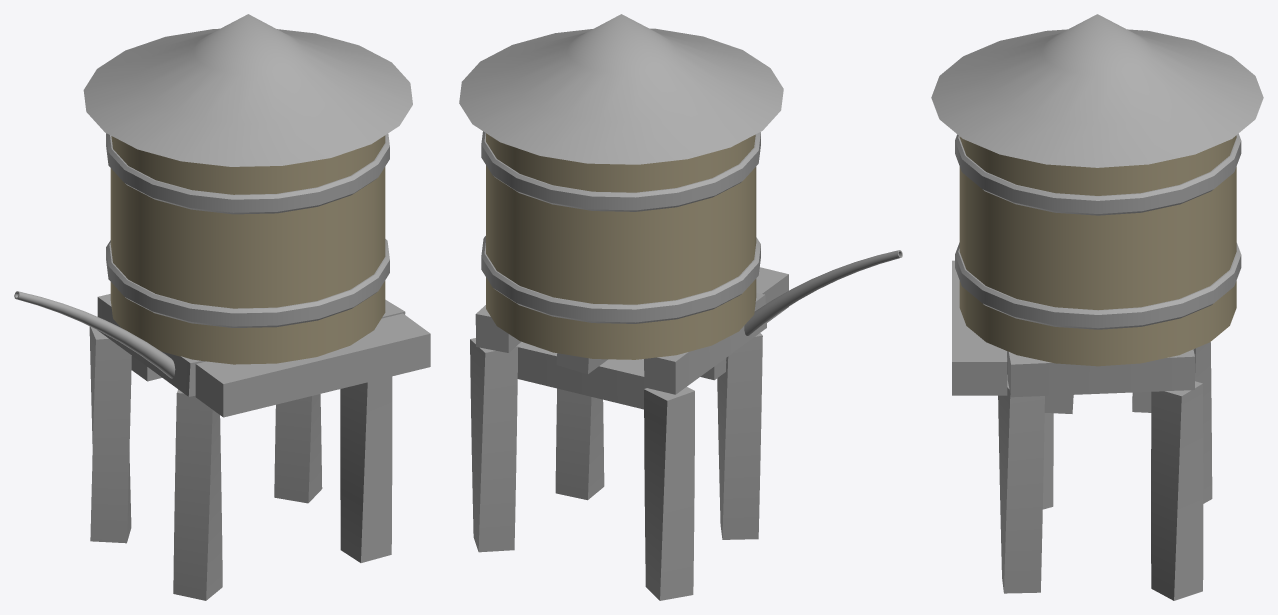
File: WaterTower_Town.fbx
3 views of the same model, side by side, from view 1: azimuth 30°, elevation 25°; view 2: azimuth 150°, elevation 25°; view 3: azimuth 270°, elevation 25° (orthographic).
Visible parts, largest first — view 1: WaterTower_ModularHouse_BM; view 2: WaterTower_ModularHouse_BM; view 3: WaterTower_ModularHouse_BM.
Boxes of the visible parts, x1,y1,x2,y2 form: WaterTower_ModularHouse_BM: [14, 14, 430, 600]; WaterTower_ModularHouse_BM: [459, 14, 902, 600]; WaterTower_ModularHouse_BM: [931, 14, 1263, 600].
Size of the model in its own units: 505 by 636 by 360.
